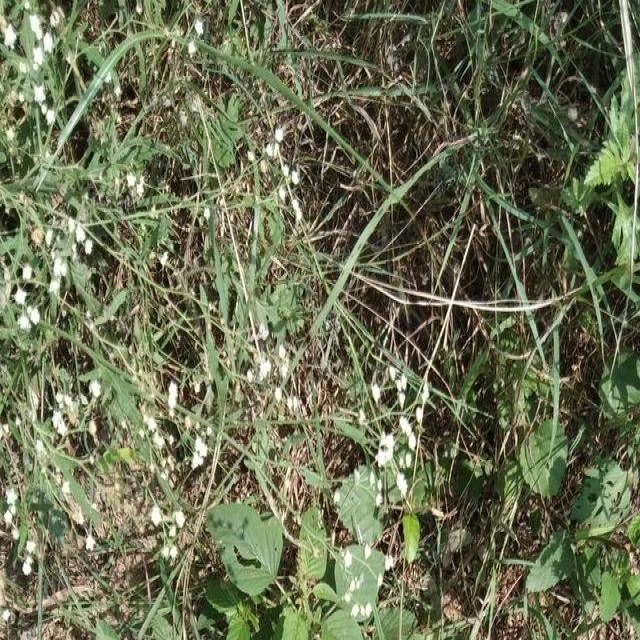weed: (318, 10, 568, 270), (178, 101, 306, 462), (0, 431, 222, 584), (587, 49, 640, 625), (224, 526, 390, 640), (14, 204, 99, 388), (353, 349, 435, 526), (7, 0, 83, 151)
